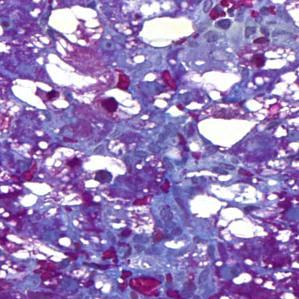ballooning: (44, 3, 107, 49)
